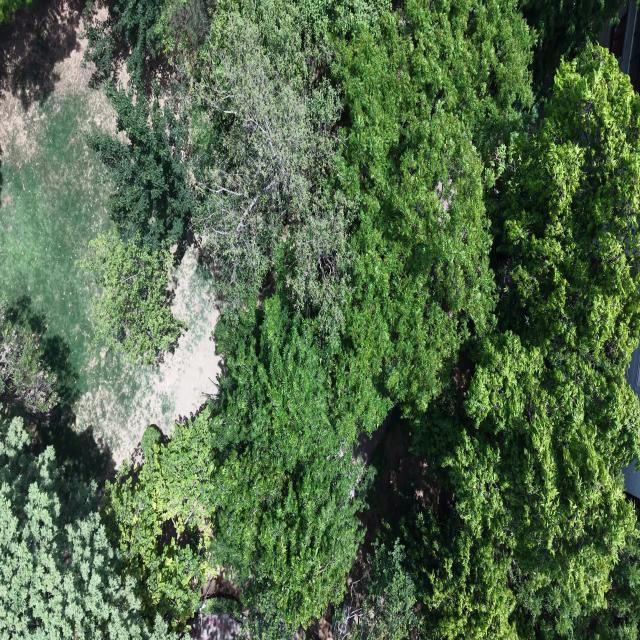DRY_AREA: (0, 0, 219, 464)
VEGETATION_TREE: (65, 0, 639, 639), (412, 49, 639, 637), (106, 296, 368, 632), (334, 0, 533, 410), (0, 303, 174, 639), (189, 6, 354, 336), (85, 0, 195, 363), (0, 416, 174, 639), (103, 411, 216, 624), (87, 84, 194, 250), (81, 231, 185, 364), (519, 0, 625, 93), (337, 540, 417, 639), (575, 523, 639, 639), (86, 0, 164, 89), (0, 300, 58, 414), (155, 0, 214, 63), (0, 0, 32, 23)
WATERBODY: (0, 47, 218, 463), (0, 95, 110, 389)
